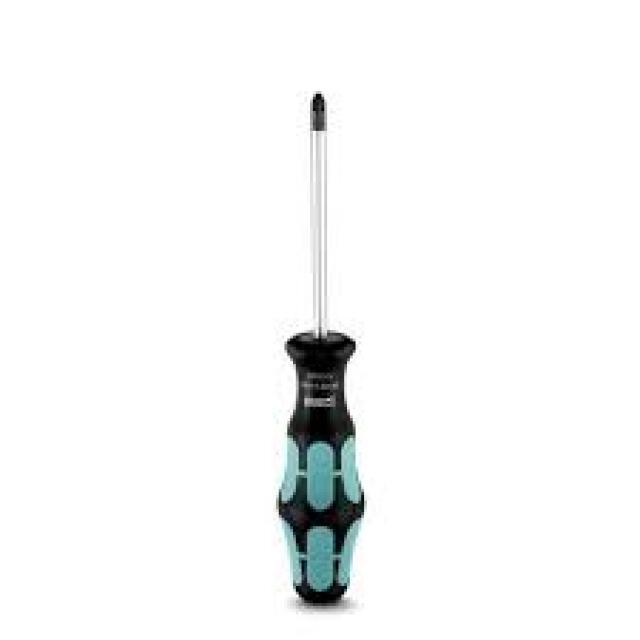screwdriver: (276, 91, 367, 612)
